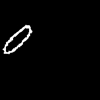chain: (3, 25, 31, 53)
